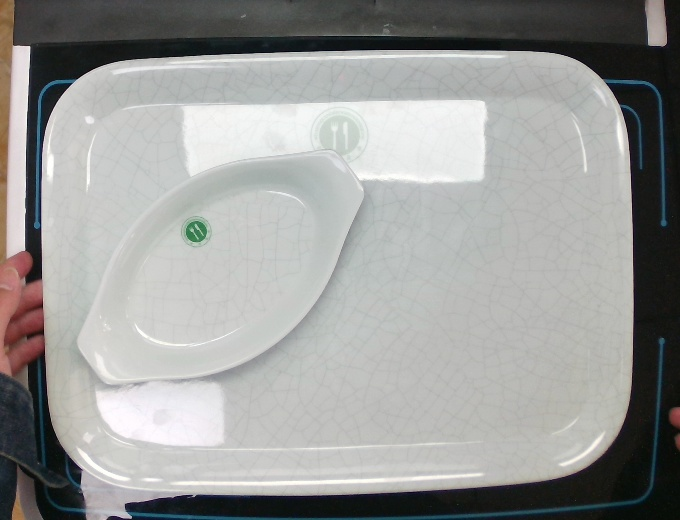JYsf-Yu_Pan: (75, 146, 368, 387)
